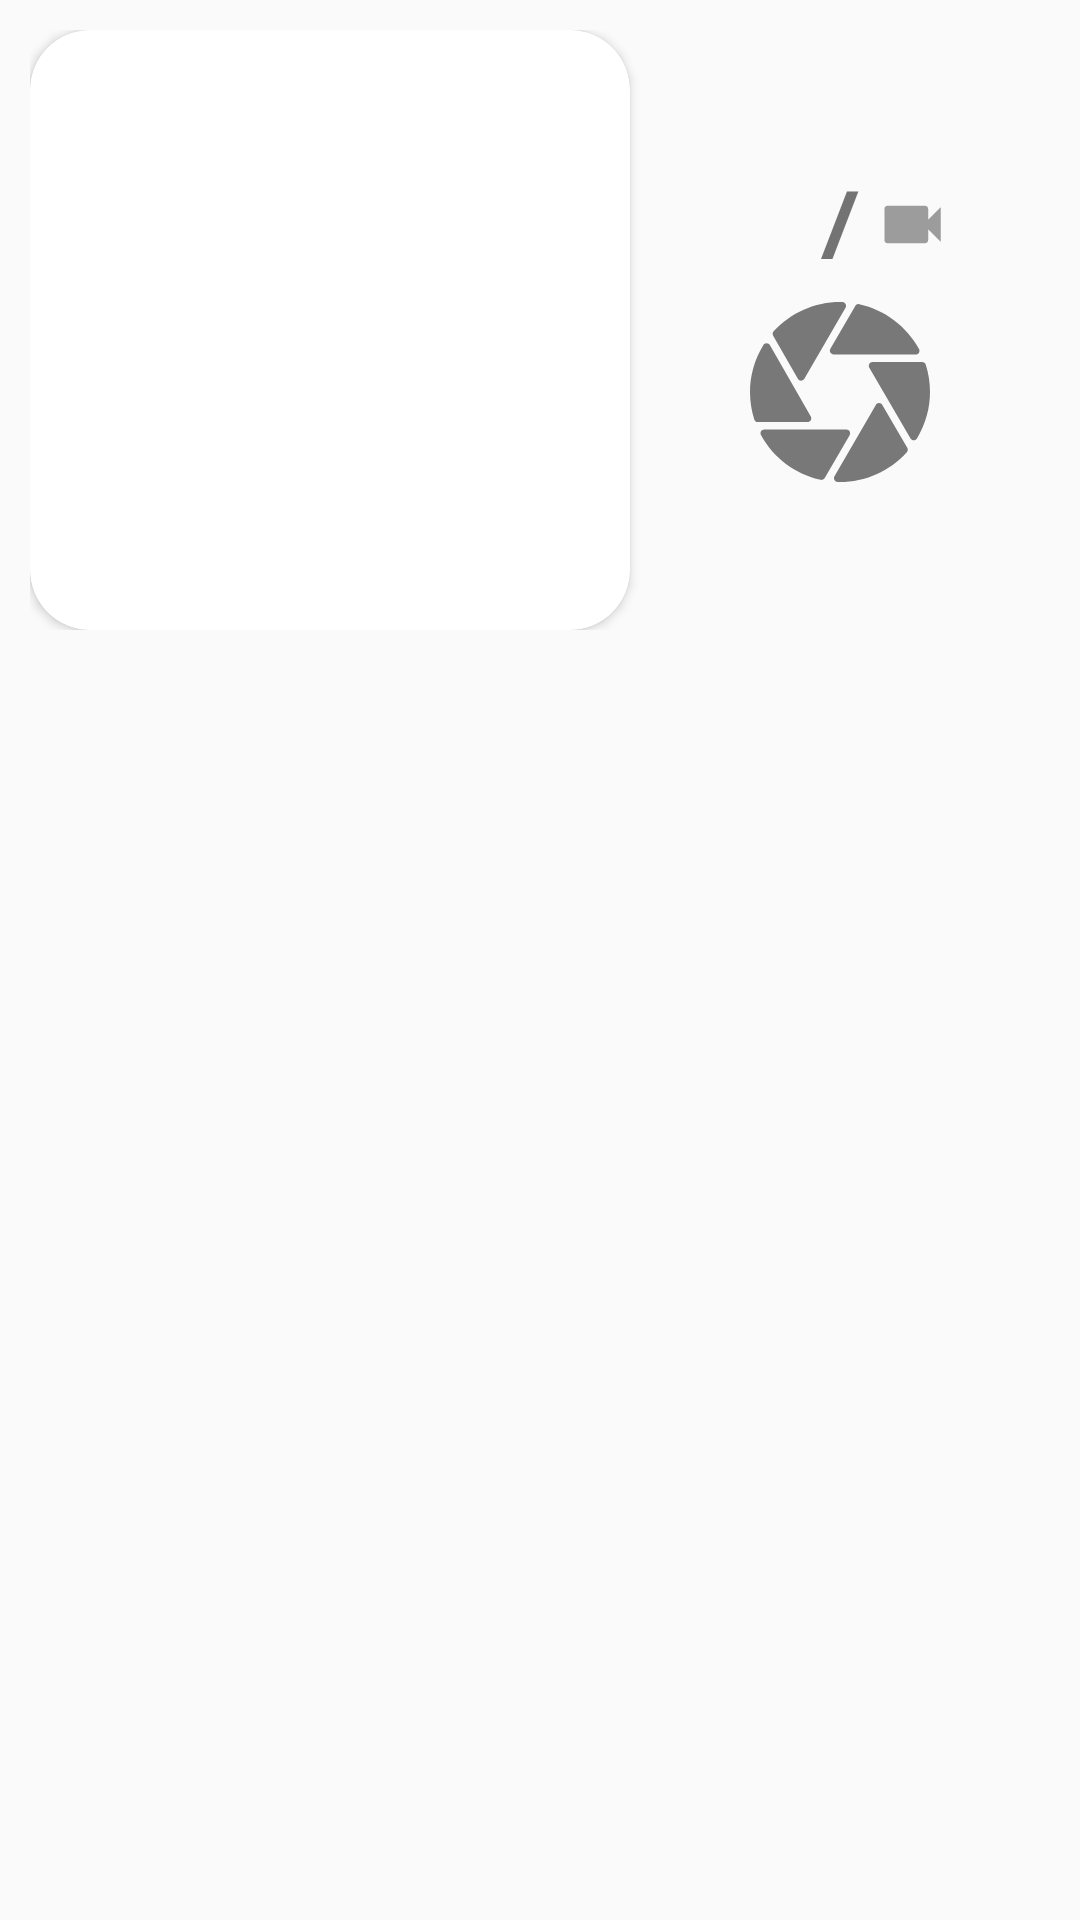

Icons on this 1080×1920 Android screen, each with its box as box(x1, y1, x2, y2):
lens: box(750, 302, 930, 482)
videocam: box(884, 206, 941, 243)
